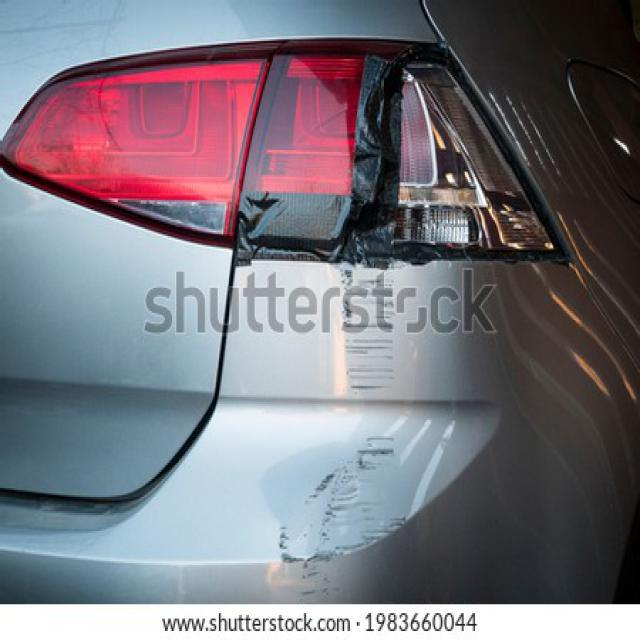Taillight-Damage: (238, 27, 512, 288)
rear-bumper-dent: (262, 188, 500, 596)
